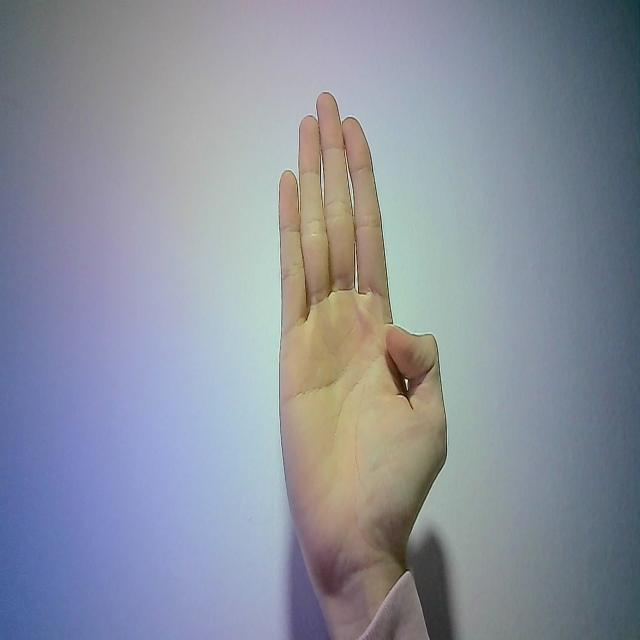B: (255, 76, 459, 577)
